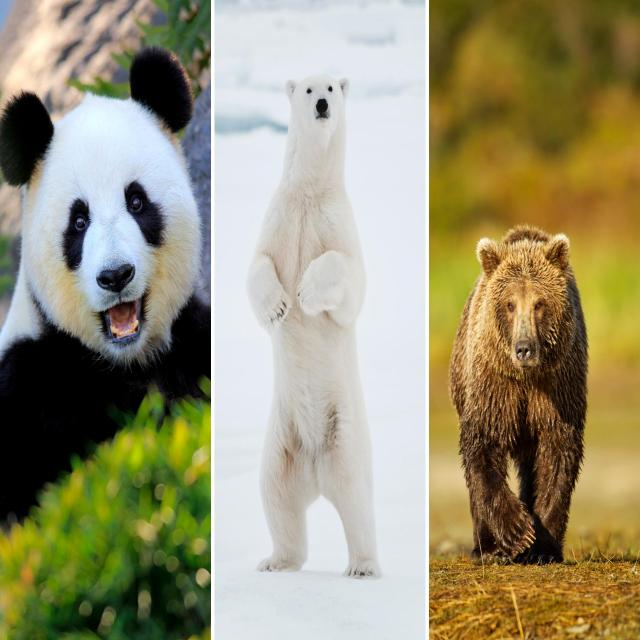Bear: (0, 47, 211, 536), (246, 73, 384, 580), (449, 226, 588, 567)
